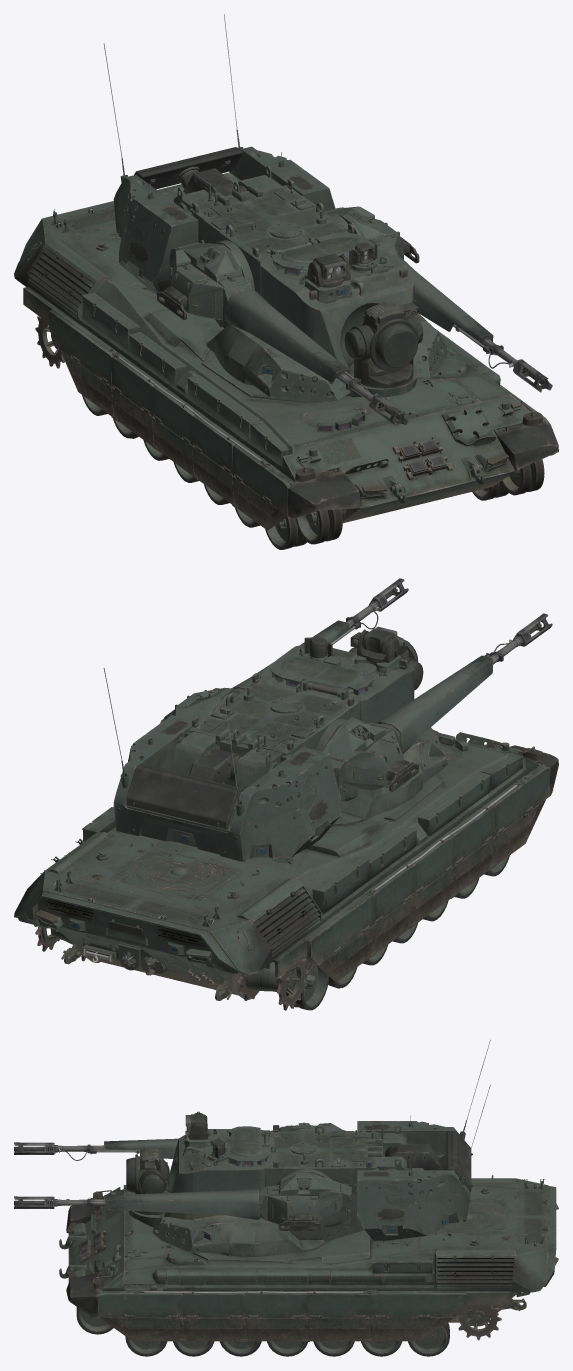
Rendered from VEH_Cheetah.glb.
3 renders of one model, top to bottom at view 1: azimuth 30°, elevation 25°; view 2: azimuth 150°, elevation 25°; view 3: azimuth 270°, elevation 25°, orthographic. The views are drawn at different scales.
Visible parts, largest first — view 1: ob_veh_tank_cheetah_base_s0, ob_veh_tank_cheetah_base_s1; view 2: ob_veh_tank_cheetah_base_s0, ob_veh_tank_cheetah_base_s1; view 3: ob_veh_tank_cheetah_base_s0, ob_veh_tank_cheetah_base_s1.
Boxes of the visible parts, <box> form: ob_veh_tank_cheetah_base_s0: <box>14,201,558,549</box>; ob_veh_tank_cheetah_base_s1: <box>103,14,552,427</box>; ob_veh_tank_cheetah_base_s0: <box>14,729,558,1010</box>; ob_veh_tank_cheetah_base_s1: <box>103,578,552,862</box>; ob_veh_tank_cheetah_base_s0: <box>59,1175,558,1356</box>; ob_veh_tank_cheetah_base_s1: <box>14,1039,490,1256</box>.
Size of the model in its own units: 3.13 by 3.75 by 7.3.
5 materials, 4 textured.
